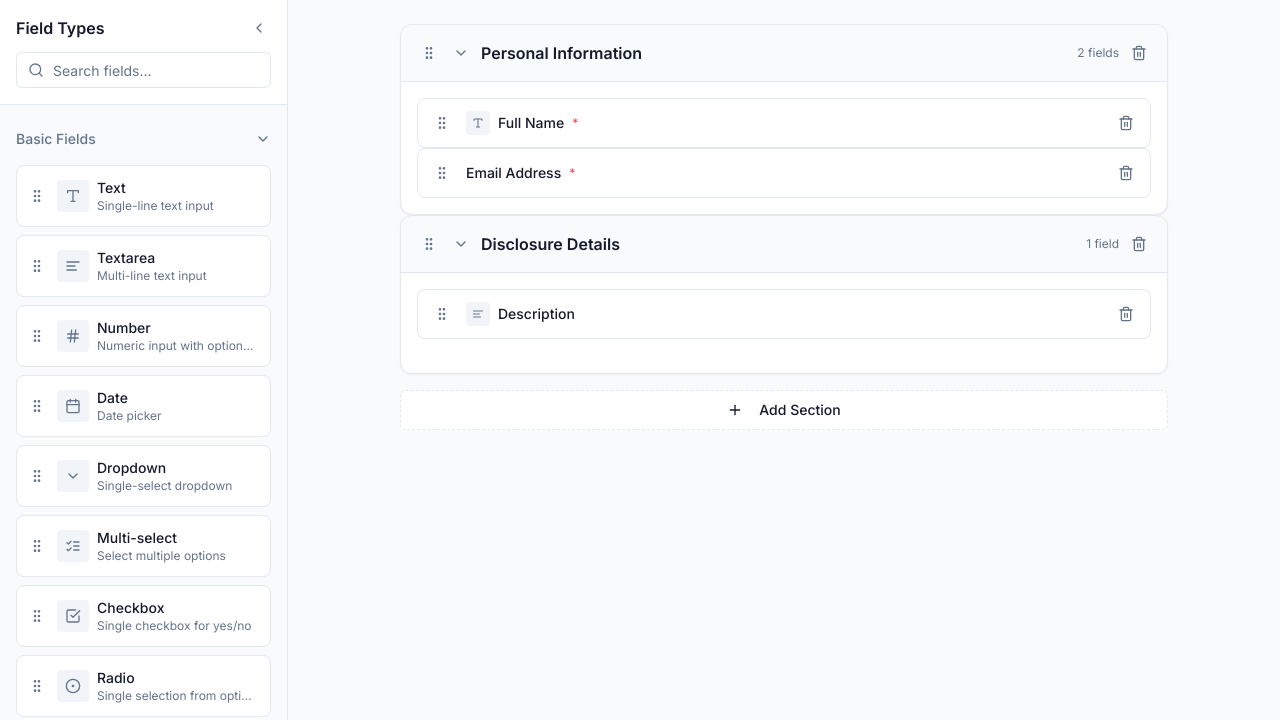
Test: FormBuilder › section management › should allow editing section name
Note: Click on section name to edit
Click the text "Personal Information": point(562, 53) 481,41 -> 642,65
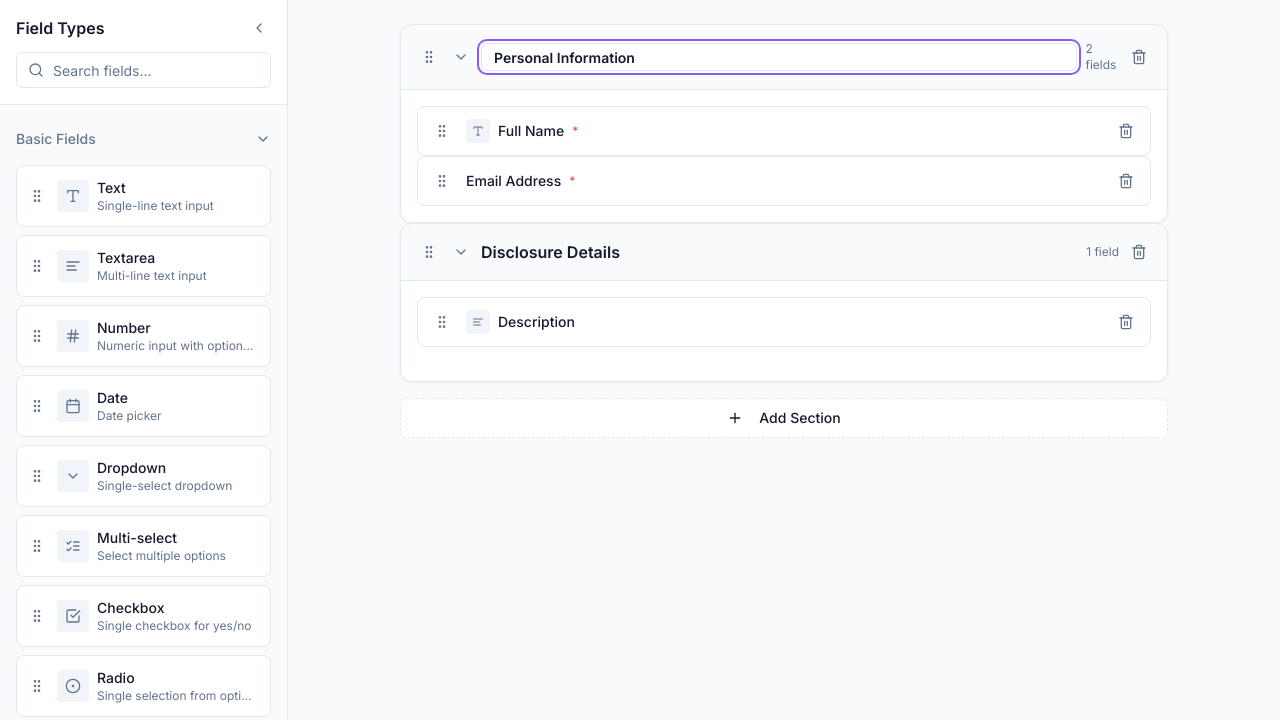
Check: the field showing "Personal Information" is shown, box 481,43 -> 1077,71
